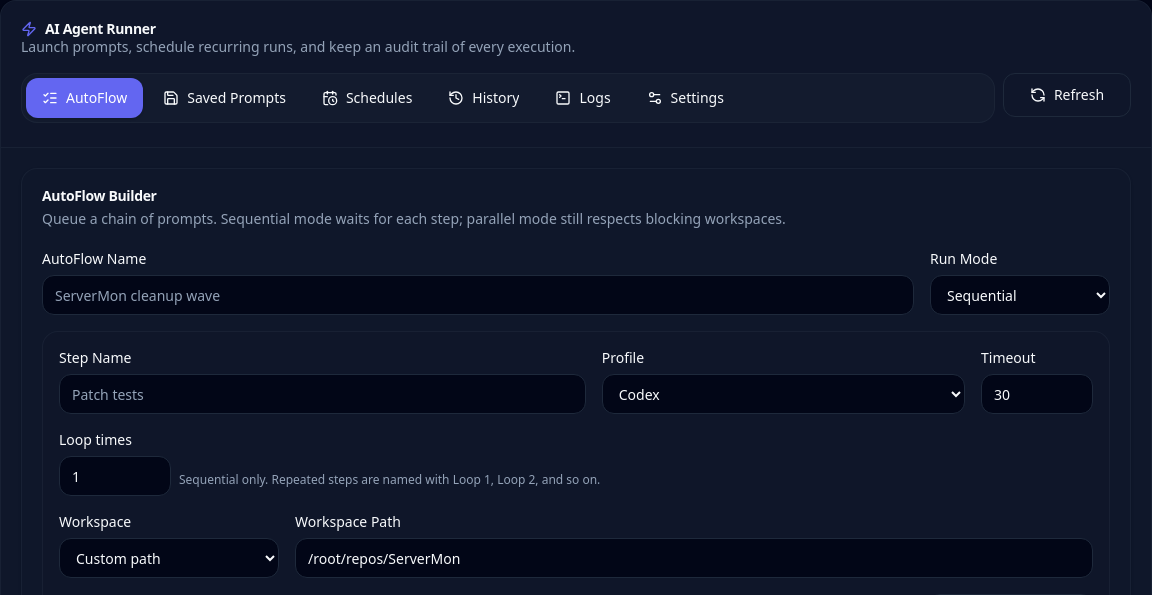
it: AIRunnerPage › shows a live run status instead of overdue when the scheduled run is active
Expected: the heading "AI Agent Runner" is shown, [21, 19, 156, 38]
Click the tab "Schedules": (367, 98) [306, 78, 428, 118]
(page scrolled)
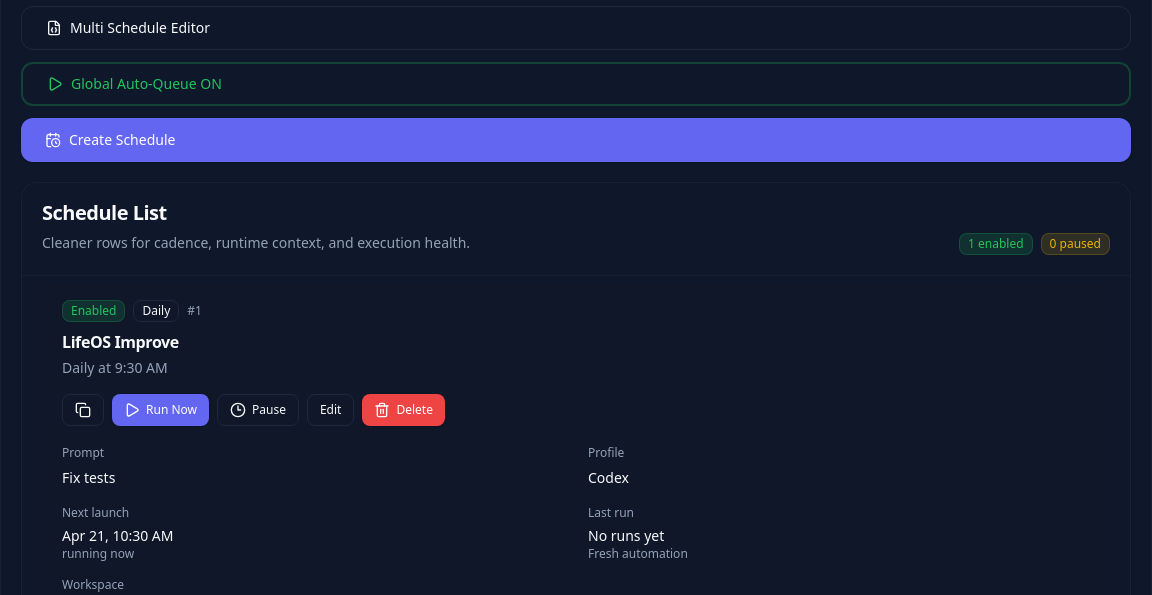
Result: the text "running now" is shown at [62, 545, 134, 562]
